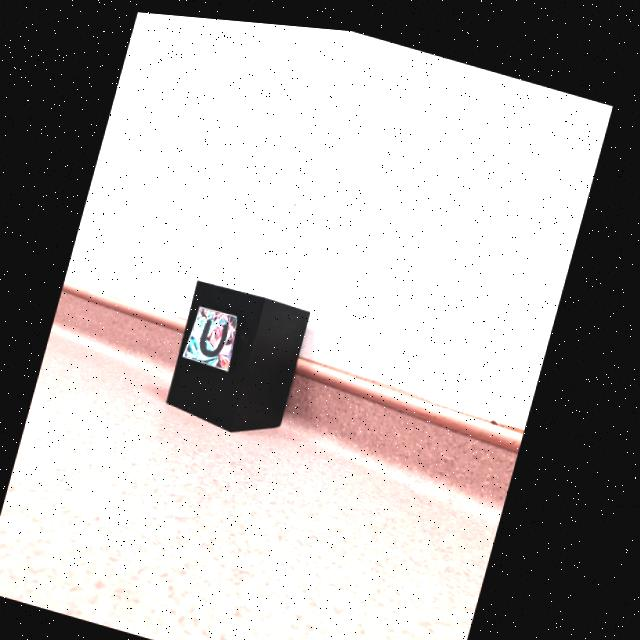U: (204, 314, 234, 353)
